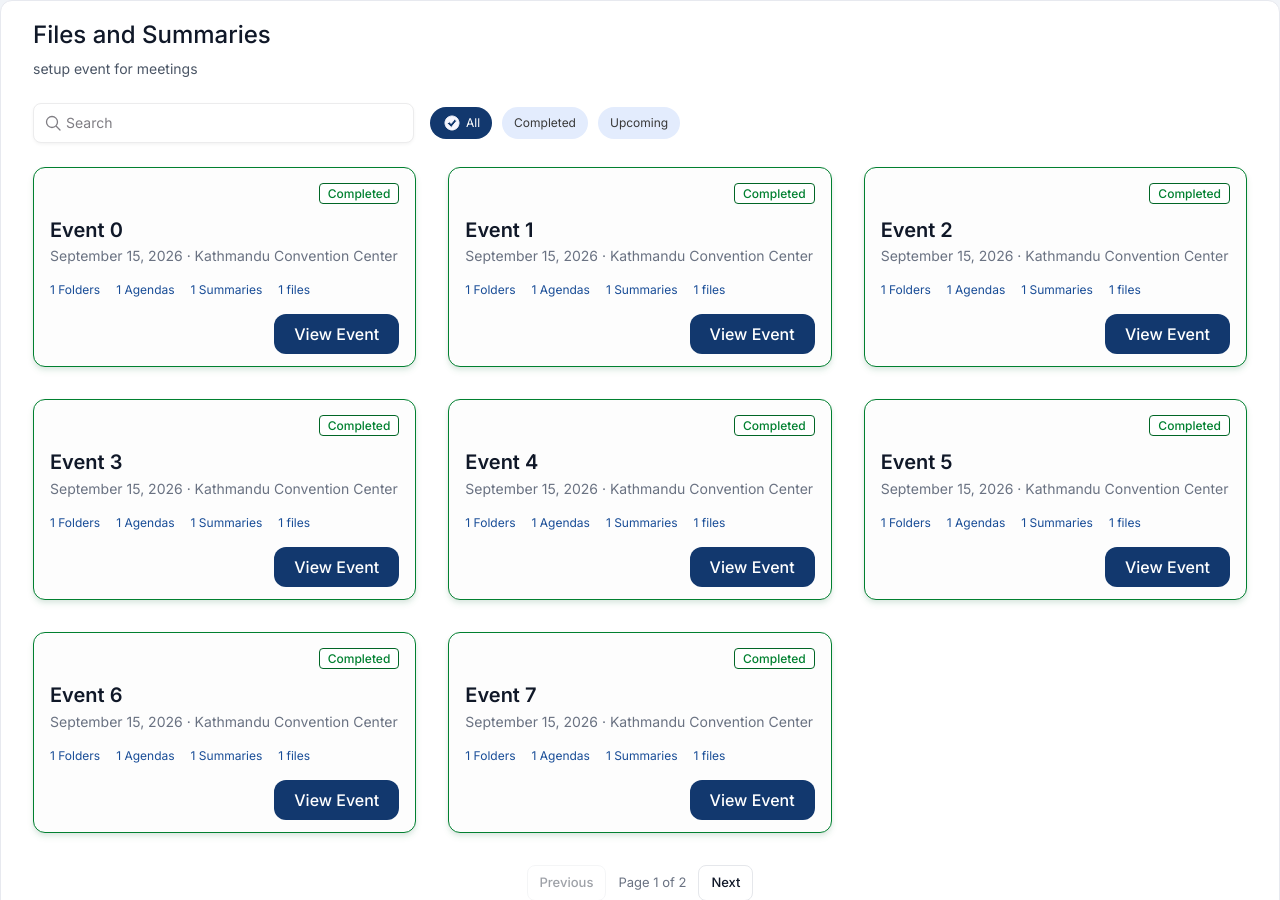
Test: the files and summaries grid › loads eight event cards and their counts per page
Expected: the heading "Event 7" is shown, [465,683,536,707]
Expected: the text "Event 8" is not shown
What coordinates should you click on to do the following:
click the button "Next"
I would click on:
 (726, 883)
Its box is [698,865,754,899].
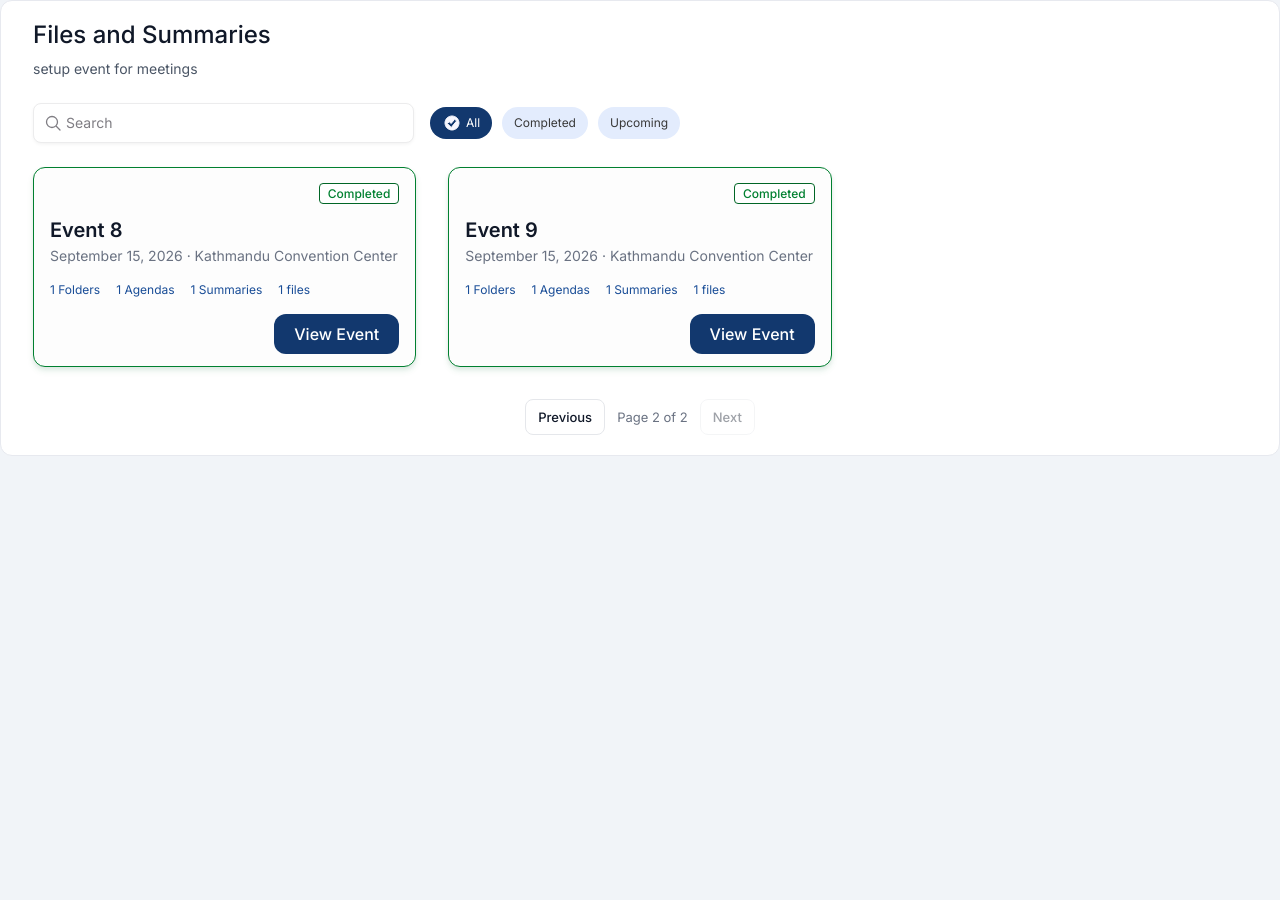
Expected: the heading "Event 8" is shown, [50,218,122,242]
